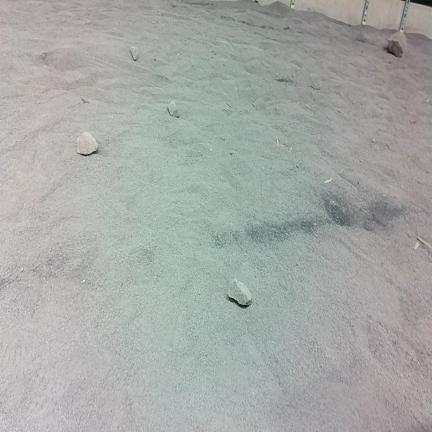Rock: (228, 279, 251, 305), (77, 132, 98, 155), (388, 32, 406, 57), (167, 101, 180, 117), (130, 47, 139, 60)
